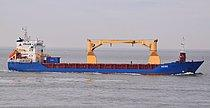Ship: (5, 27, 208, 82)
